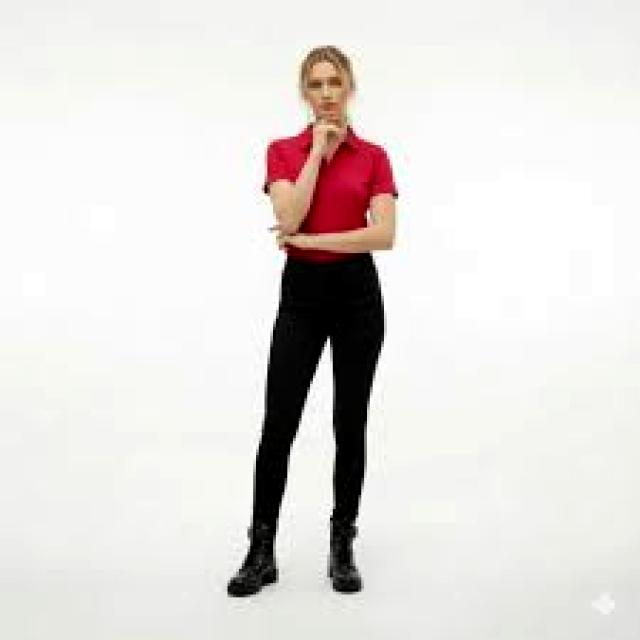face: (305, 60, 352, 125)
foot-wear: (231, 522, 283, 598), (322, 517, 368, 596)
lower-wear: (254, 254, 383, 526)
top-wear: (302, 126, 398, 233)
